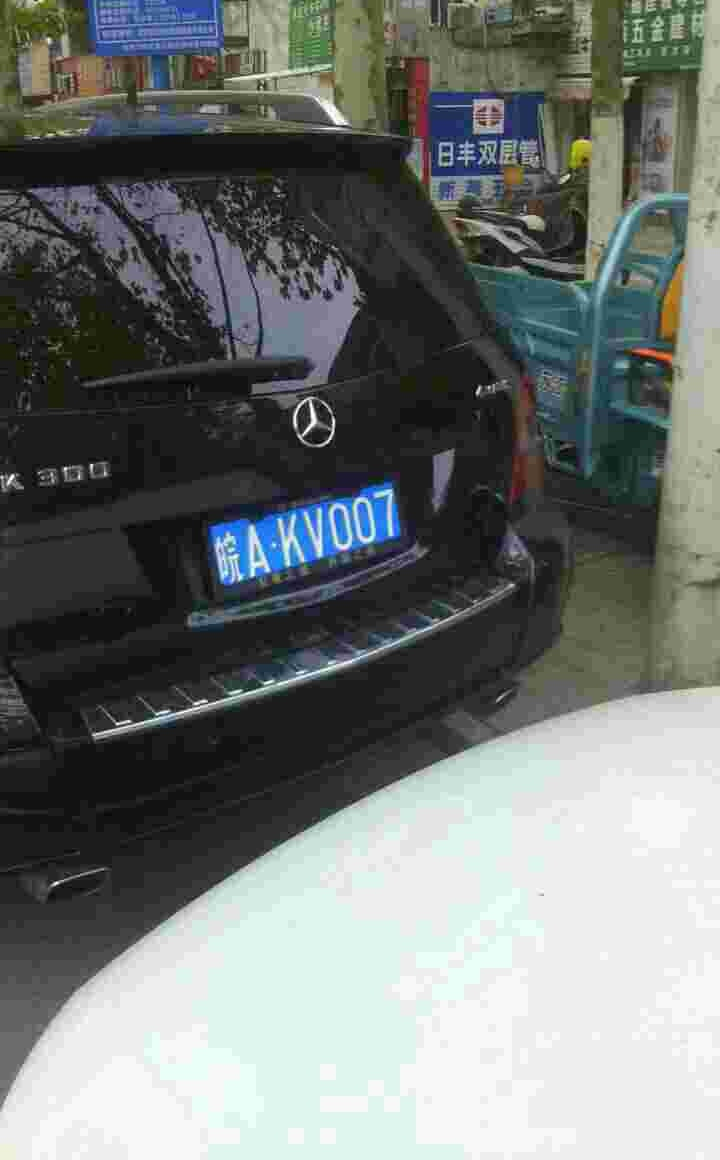license_plate: (207, 491, 406, 572)
